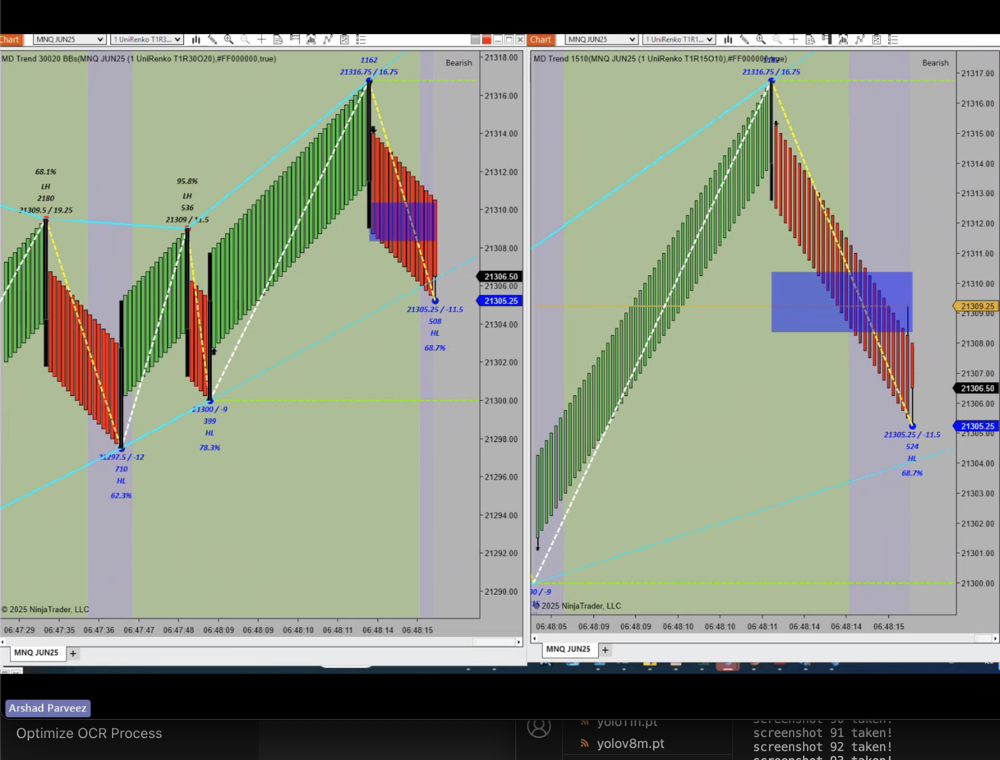HL: (107, 472, 135, 489), (199, 425, 222, 442), (904, 449, 923, 466), (423, 327, 447, 339)
LH: (176, 187, 201, 202), (35, 178, 54, 192)
